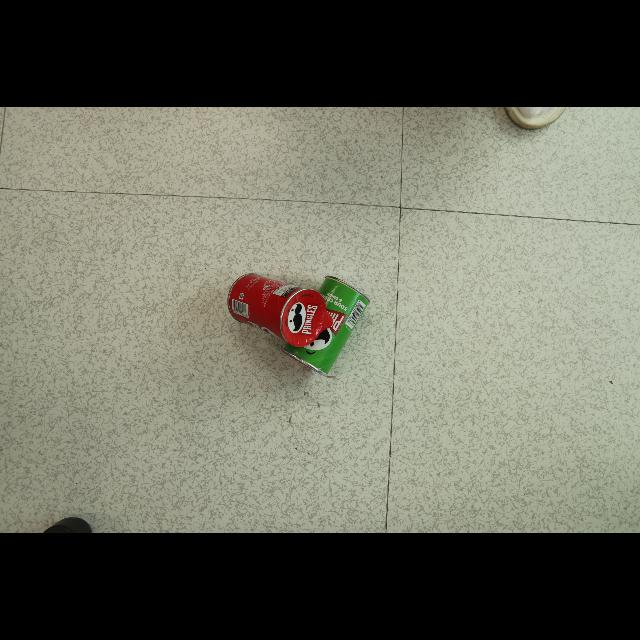canSnack: (283, 274, 371, 373), (228, 274, 332, 347)
